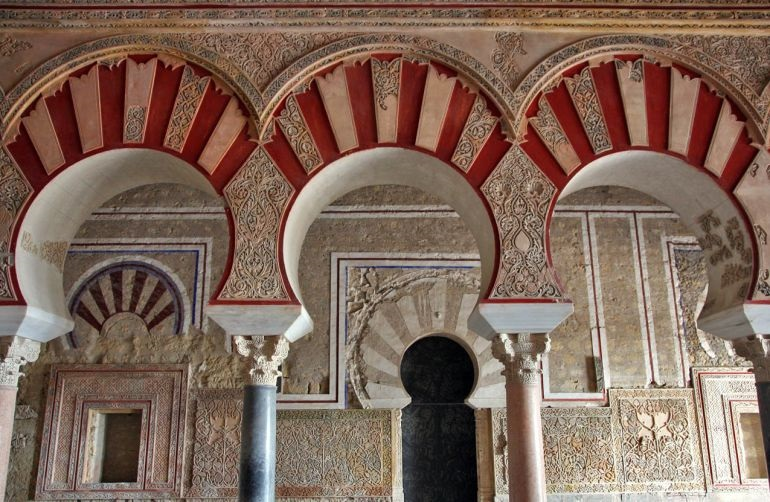arco-herradura: (262, 129, 524, 377), (1, 132, 262, 370), (524, 132, 770, 375), (384, 329, 491, 418)
